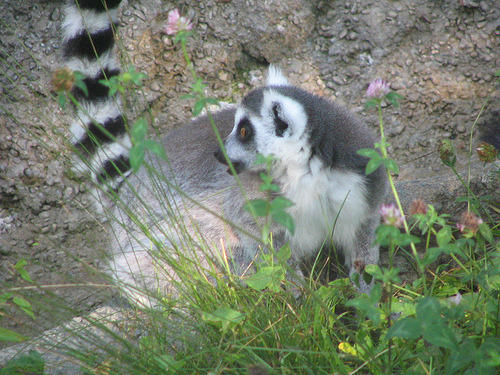cat: (60, 1, 389, 312)
